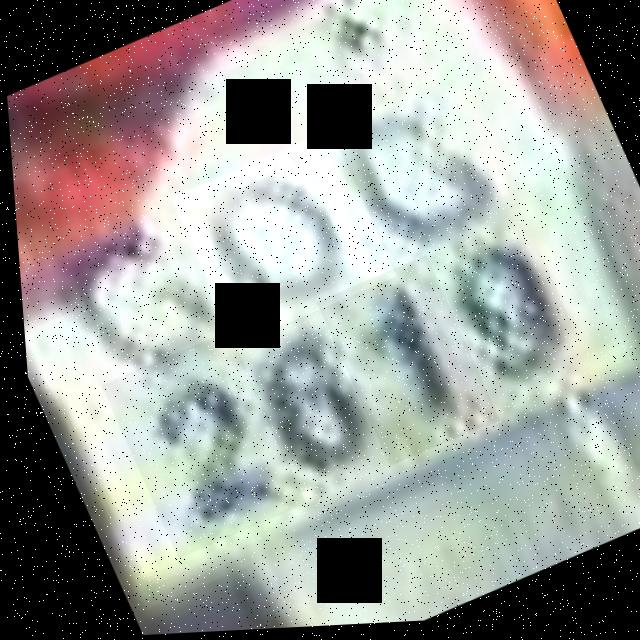1: (310, 256, 496, 474)
2: (92, 330, 301, 562)
8: (402, 205, 603, 435)
O: (164, 130, 396, 349), (298, 76, 519, 290)
